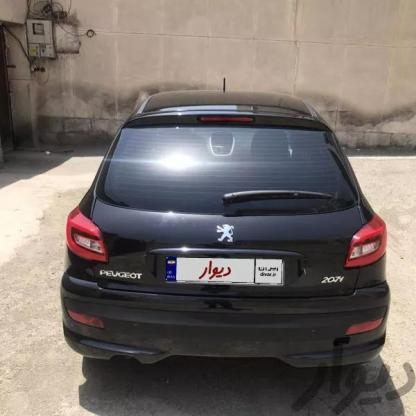Car: (60, 76, 386, 379)
